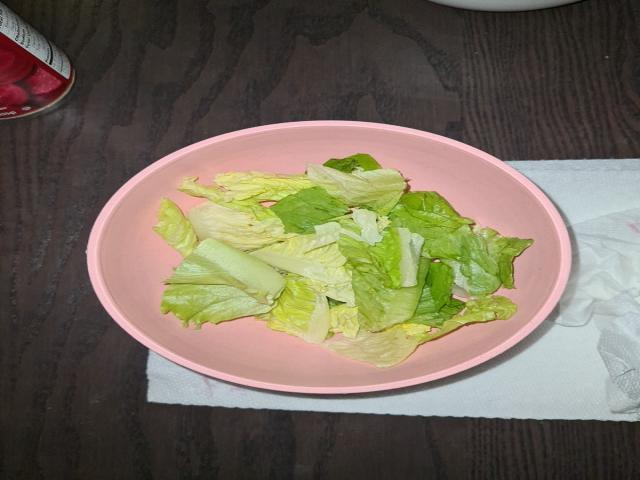kichen waste: (155, 154, 529, 366)
